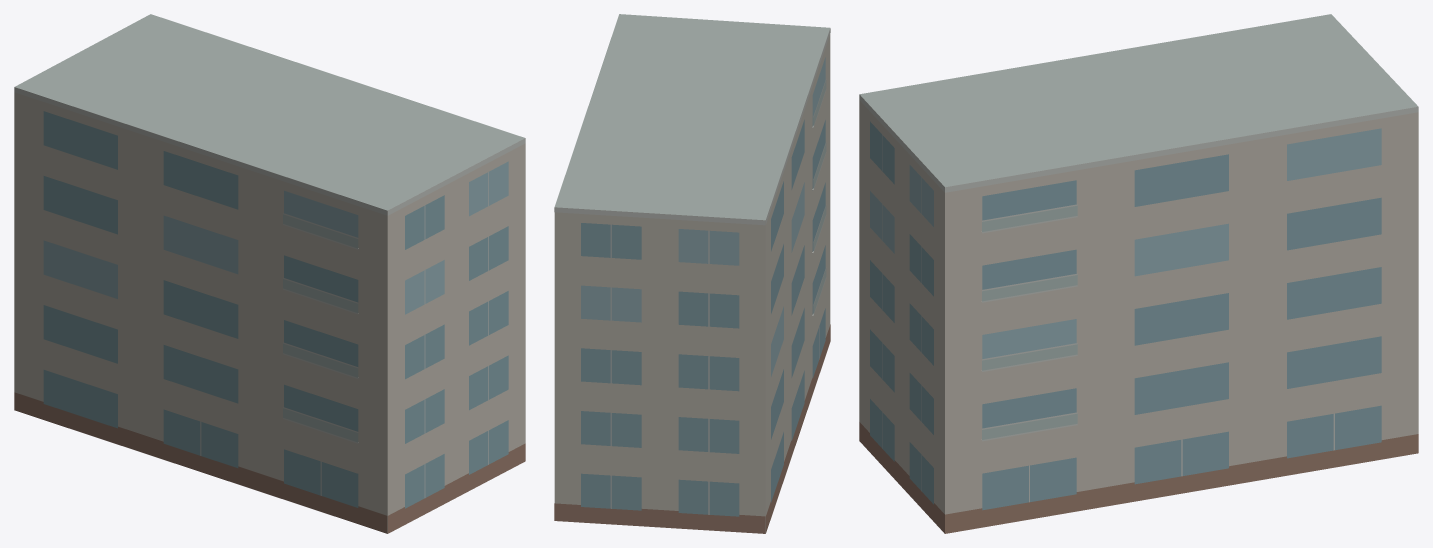
The model's file is survey-upis-32755320.glb.
3 renders of one model, left to right at view 1: azimuth 30°, elevation 25°; view 2: azimuth 150°, elevation 25°; view 3: azimuth 270°, elevation 25°, orthographic. The views are drawn at different scales.
Visible parts, largest first — view 1: survey-upis-32755320.tmp; view 2: survey-upis-32755320.tmp; view 3: survey-upis-32755320.tmp.
Boxes of the visible parts, bbox=[...] form: survey-upis-32755320.tmp: bbox=[14, 14, 525, 533]; survey-upis-32755320.tmp: bbox=[554, 14, 830, 533]; survey-upis-32755320.tmp: bbox=[859, 14, 1418, 533].
Bounding box in the file's own units: 16.36 × 15.25 × 22.31.
